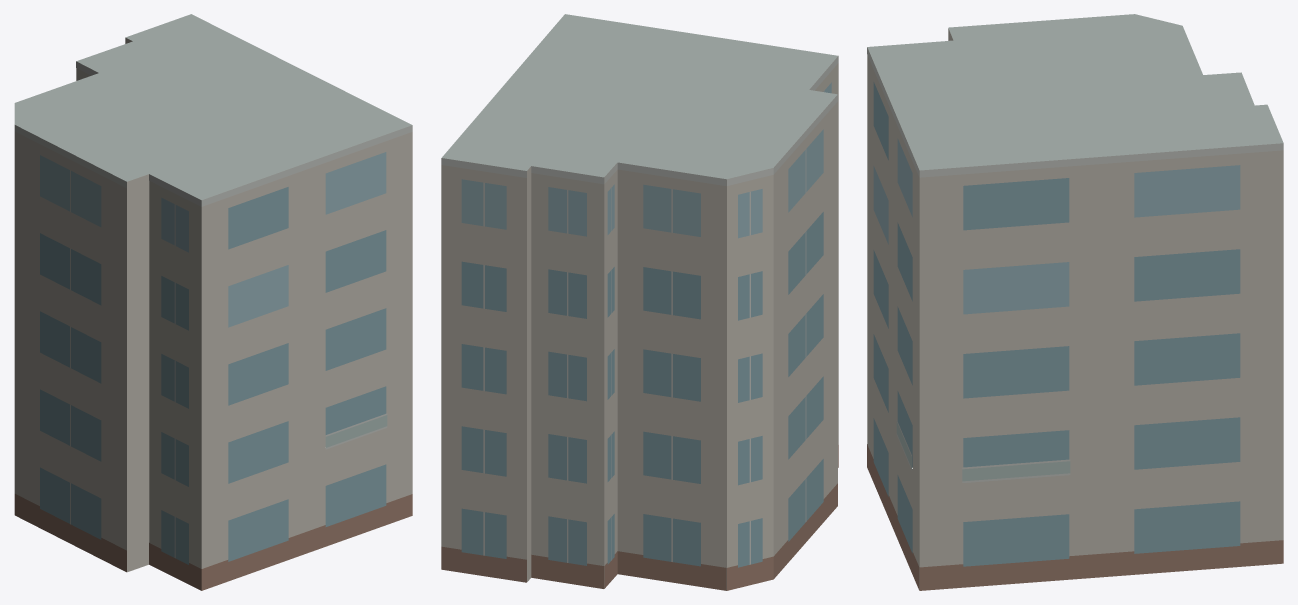
Rendered from survey-upis-32686935.glb.
3 views of the same model, side by side, from view 1: azimuth 30°, elevation 25°; view 2: azimuth 150°, elevation 25°; view 3: azimuth 270°, elevation 25° (orthographic). The views are drawn at different scales.
Parts seen in each view (by area): view 1: survey-upis-32686935.tmp; view 2: survey-upis-32686935.tmp; view 3: survey-upis-32686935.tmp.
Boxes of the visible parts, x1,y1,x2,y2 form: survey-upis-32686935.tmp: [14, 14, 412, 590]; survey-upis-32686935.tmp: [441, 14, 838, 590]; survey-upis-32686935.tmp: [867, 14, 1283, 590].
Size of the model in its own units: 11.51 by 14.4 by 12.94.
